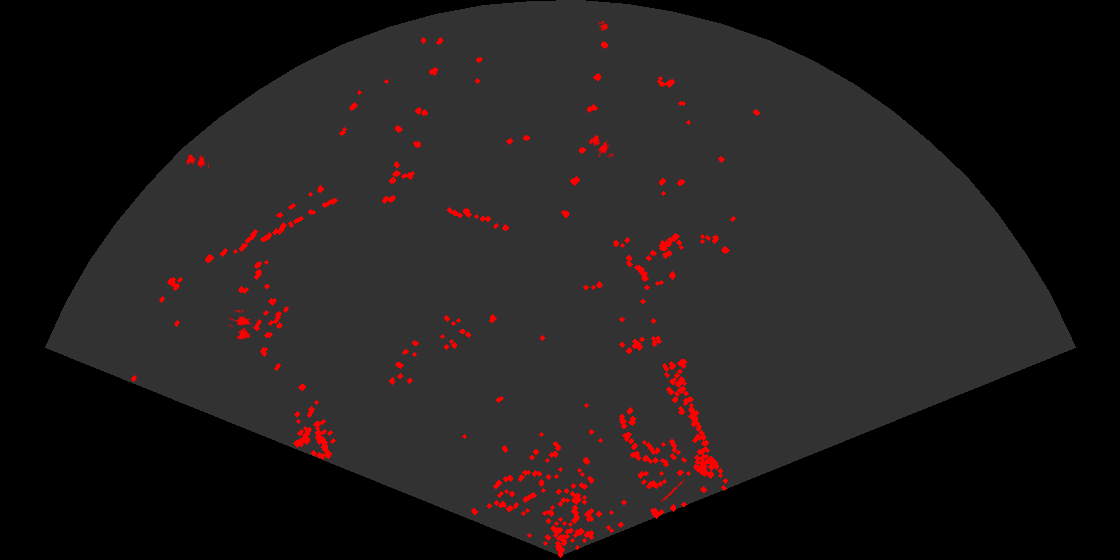ball: (597, 19, 610, 32)
cage: (228, 310, 254, 341), (587, 133, 614, 157), (185, 152, 209, 170)
chain: (659, 479, 687, 505)
